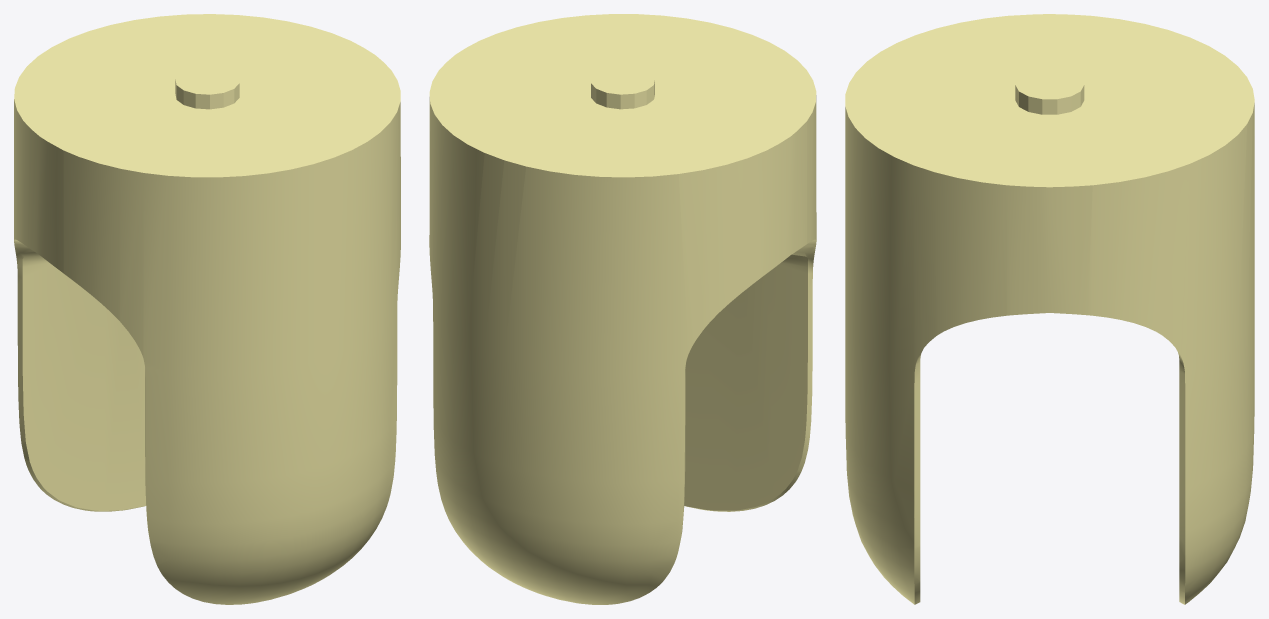
The model's file is wrist_pitch_r_j5_link.glb.
3 views of the same model, side by side, from view 1: azimuth 30°, elevation 25°; view 2: azimuth 150°, elevation 25°; view 3: azimuth 270°, elevation 25° (orthographic). The views are drawn at different scales.
Visible parts, largest first — view 1: Mesh_0.007; view 2: Mesh_0.007; view 3: Mesh_0.007.
Part boxes in pixels (x1=…): Mesh_0.007: x1=14, y1=14, x2=400, y2=604; Mesh_0.007: x1=429, y1=14, x2=816, y2=604; Mesh_0.007: x1=845, y1=14, x2=1254, y2=604.
Size of the model in its own units: 0.0955 by 0.1285 by 0.0954.
